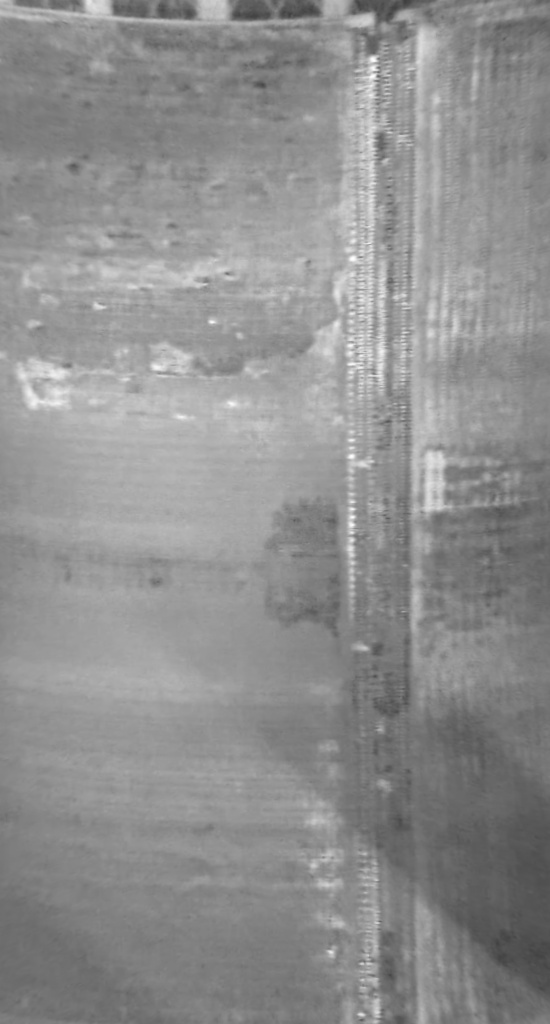splice: (342, 1, 429, 1024)
